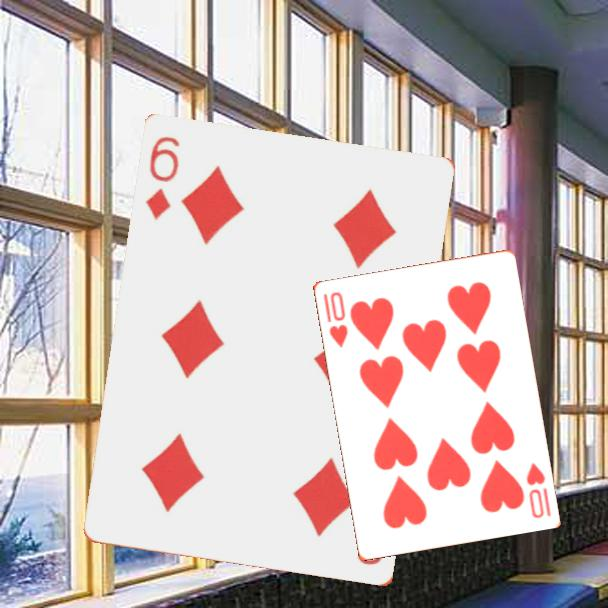d06: (142, 133, 183, 224)
h10: (522, 459, 553, 521), (320, 288, 350, 350)
